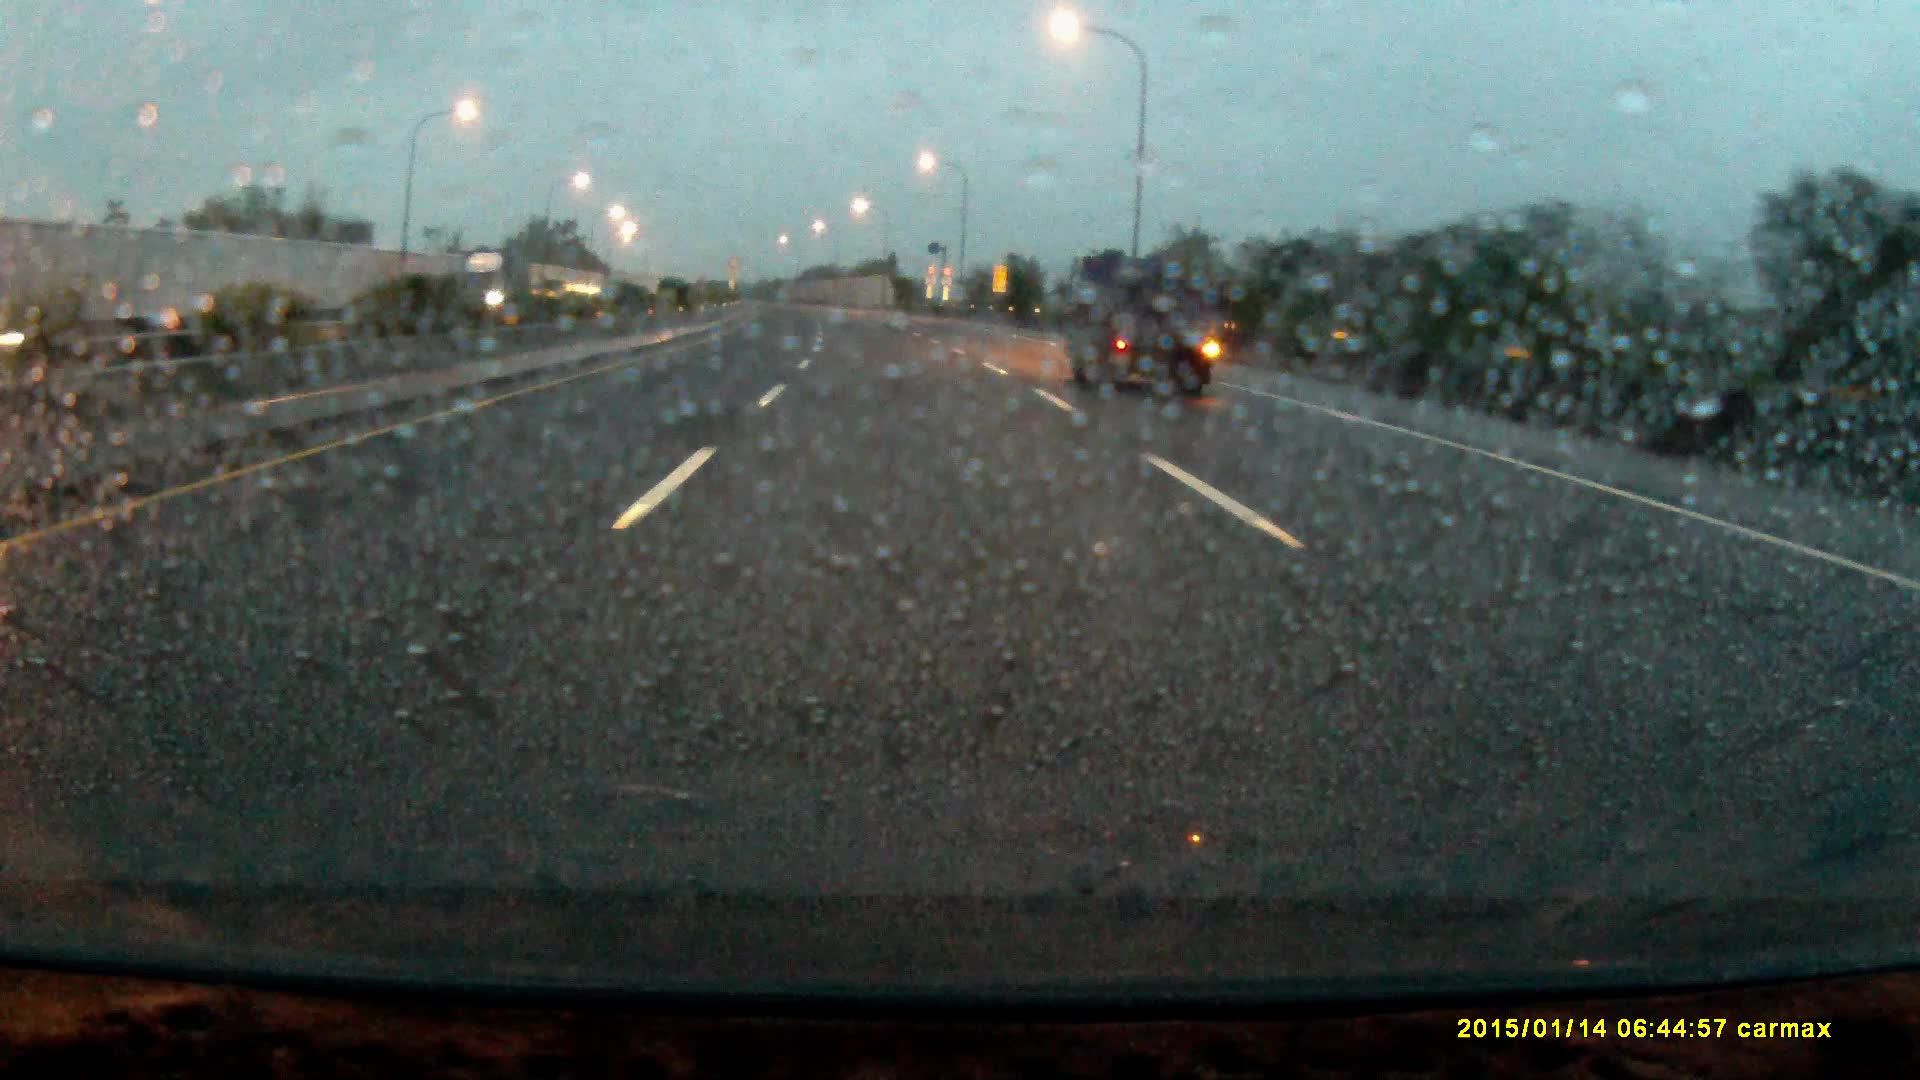vehicle: (1064, 251, 1215, 401), (458, 248, 535, 328)
